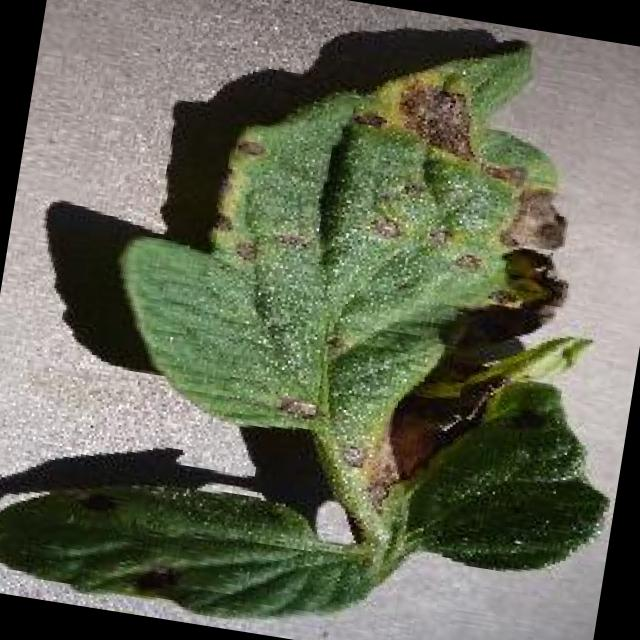Tomato_Early_Blight: (171, 0, 640, 533)
